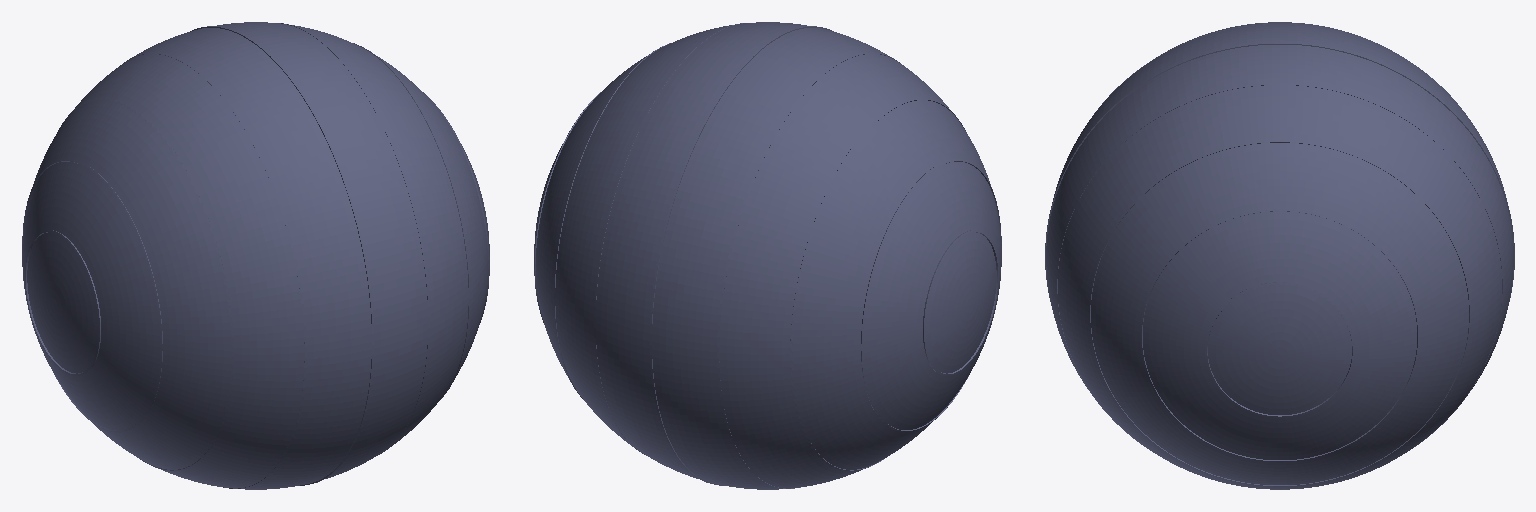
The model's file is yoga_ball_05.obj.
3 views of the same model, side by side, from view 1: azimuth 30°, elevation 25°; view 2: azimuth 150°, elevation 25°; view 3: azimuth 270°, elevation 25° (orthographic).
Visible parts, largest first — view 1: mesh12, mesh16, mesh8, mesh20, mesh4, mesh24, mesh0, mesh28, mesh14, mesh10, mesh18, mesh6 (+1 smaller); view 2: mesh12, mesh16, mesh8, mesh20, mesh4, mesh24, mesh0, mesh28, mesh14, mesh10, mesh18, mesh6 (+1 smaller); view 3: mesh28, mesh32, mesh24, mesh20, mesh36, mesh16, mesh30, mesh26, mesh22, mesh34, mesh19, mesh27.
Part boxes in pixels (left/top/right/bottom): mesh12: left=75, top=54, right=304, bottom=488; mesh16: left=136, top=28, right=371, bottom=489; mesh8: left=34, top=100, right=230, bottom=469; mesh20: left=217, top=22, right=427, bottom=478; mesh4: left=22, top=162, right=159, bottom=429; mesh24: left=293, top=25, right=468, bottom=443; mesh0: left=27, top=232, right=97, bottom=373; mesh28: left=379, top=57, right=487, bottom=375; mesh14: left=130, top=52, right=306, bottom=488; mesh10: left=68, top=98, right=233, bottom=471; mesh18: left=207, top=26, right=373, bottom=482; mesh6: left=27, top=159, right=162, bottom=432; mesh12: left=719, top=54, right=948, bottom=488; mesh16: left=652, top=28, right=887, bottom=489; mesh8: left=793, top=100, right=989, bottom=469; mesh20: left=596, top=22, right=806, bottom=478; mesh4: left=864, top=162, right=1001, bottom=429; mesh24: left=555, top=25, right=730, bottom=443; mesh0: left=926, top=232, right=996, bottom=373; mesh28: left=536, top=57, right=644, bottom=375; mesh14: left=717, top=52, right=893, bottom=488; mesh10: left=790, top=98, right=955, bottom=471; mesh18: left=650, top=26, right=816, bottom=482; mesh6: left=861, top=159, right=996, bottom=432; mesh28: left=1091, top=143, right=1468, bottom=484; mesh32: left=1143, top=211, right=1416, bottom=459; mesh24: left=1058, top=85, right=1501, bottom=489; mesh20: left=1046, top=45, right=1513, bottom=388; mesh36: left=1208, top=285, right=1351, bottom=414; mesh16: left=1053, top=24, right=1506, bottom=198; mesh30: left=1140, top=209, right=1419, bottom=462; mesh26: left=1089, top=140, right=1470, bottom=486; mesh22: left=1057, top=83, right=1502, bottom=419; mesh34: left=1205, top=282, right=1354, bottom=417; mesh19: left=1045, top=44, right=1514, bottom=305; mesh27: left=1090, top=142, right=1469, bottom=485.
Bounding box in the file's own units: 0.75 × 0.7536 × 0.7537.